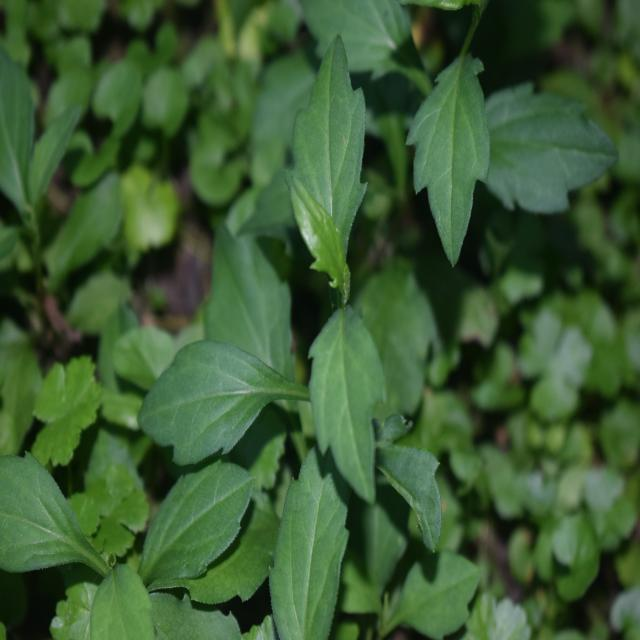Indian aster: (147, 78, 416, 569)
